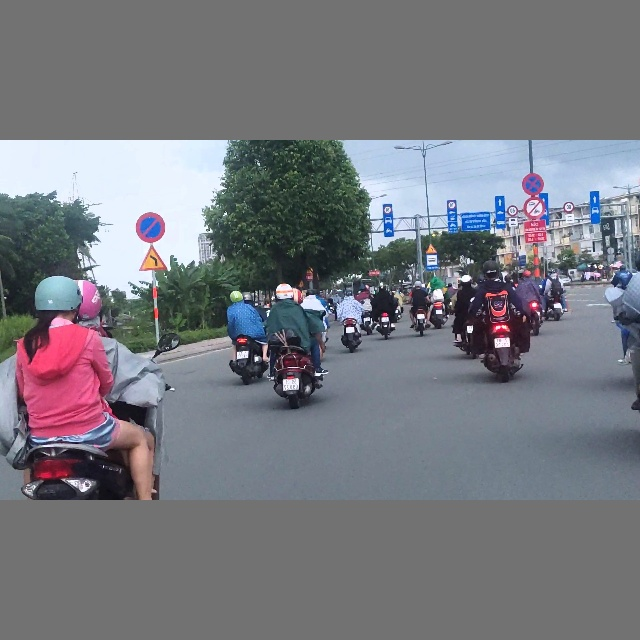I.434a: (425, 253, 439, 271)
P.111: (524, 197, 545, 219)
P.127*50: (447, 201, 456, 209), (383, 206, 391, 213)
P.127*60: (507, 205, 517, 216)
P.127*80: (563, 201, 575, 213)
P.130: (522, 173, 544, 197)
P.131a: (136, 211, 167, 242)
S.505a*Xe tai va cong: (509, 217, 518, 227)
W.201b: (138, 245, 167, 272), (426, 244, 438, 254)
